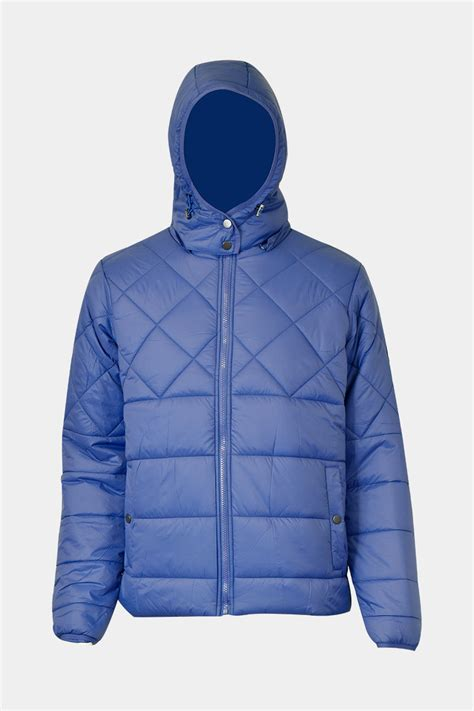nylon: (52, 59, 422, 650)
